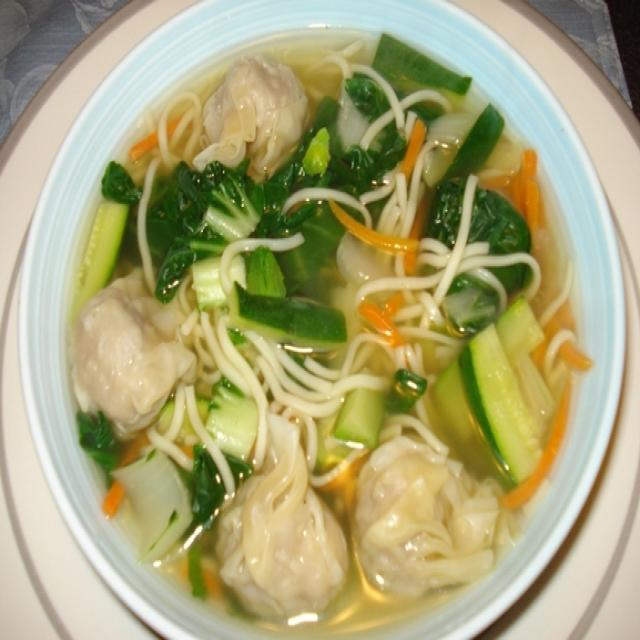汤锅炖物: (45, 13, 606, 626)
